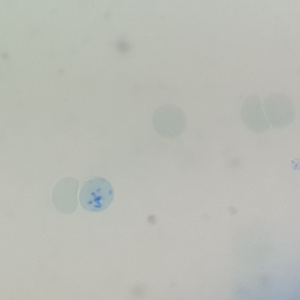aggregate reticulocyte: (77, 176, 116, 214)
erythrocyte: (150, 102, 189, 140), (239, 94, 272, 134), (262, 93, 296, 130), (50, 176, 80, 215)
